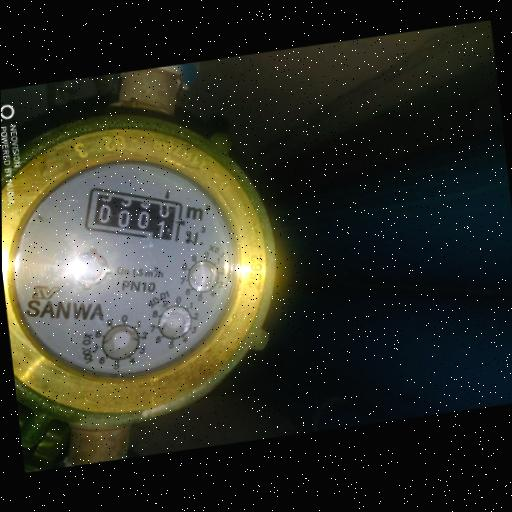0: (149, 200, 180, 243), (109, 194, 141, 232), (129, 197, 161, 235), (90, 191, 120, 229)
border_water_meter_number: (79, 174, 189, 255)
